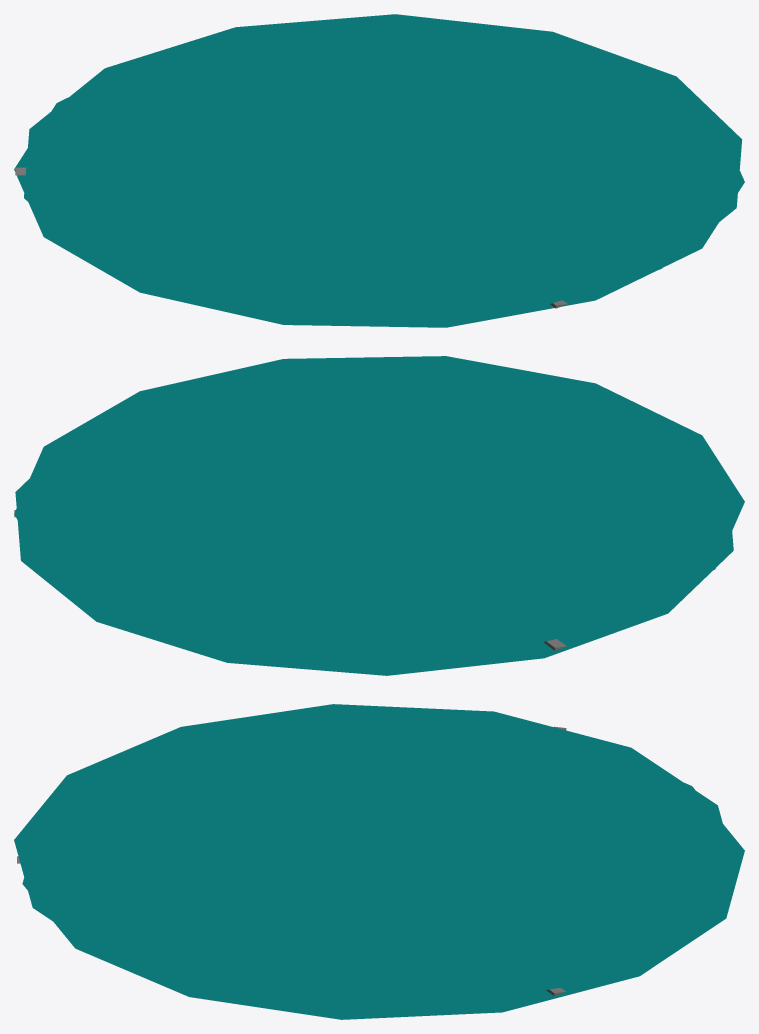
Rendered from SCWZROTR.glb.
3 views of the same model, one above another, from view 1: azimuth 30°, elevation 25°; view 2: azimuth 150°, elevation 25°; view 3: azimuth 270°, elevation 25° (orthographic).
Visible parts, largest first — view 1: SCWZROTR | archived geometry; view 2: SCWZROTR | archived geometry; view 3: SCWZROTR | archived geometry.
Boxes of the visible parts, box(x1,y1,x2,y2) form: SCWZROTR | archived geometry: box(14, 14, 744, 327); SCWZROTR | archived geometry: box(14, 356, 744, 675); SCWZROTR | archived geometry: box(14, 704, 744, 1019).
Bounding box in the file's own units: 8.65 × 0.1364 × 8.75.
